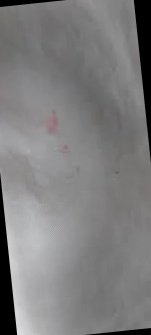lipstick: (43, 107, 64, 137), (58, 142, 74, 157)
